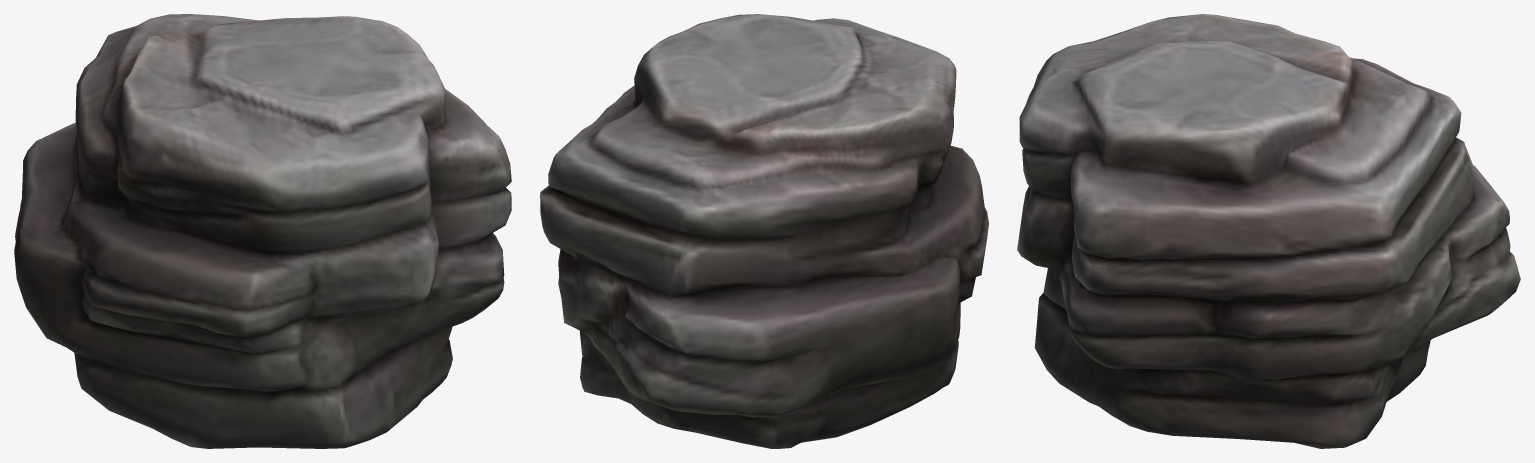
Rendered from sp-fels-2.glb.
3 views of the same model, side by side, from view 1: azimuth 30°, elevation 25°; view 2: azimuth 150°, elevation 25°; view 3: azimuth 270°, elevation 25° (orthographic). The views are drawn at different scales.
Parts seen in each view (by area): view 1: sp-fels-2; view 2: sp-fels-2; view 3: sp-fels-2.
Part boxes in pixels (x1,y1,x2,y2): sp-fels-2: (14,14,511,448); sp-fels-2: (540,14,988,448); sp-fels-2: (1017,14,1520,448).
Size of the model in its own units: 3.76 by 2.93 by 4.21.
1 material, 1 textured.
